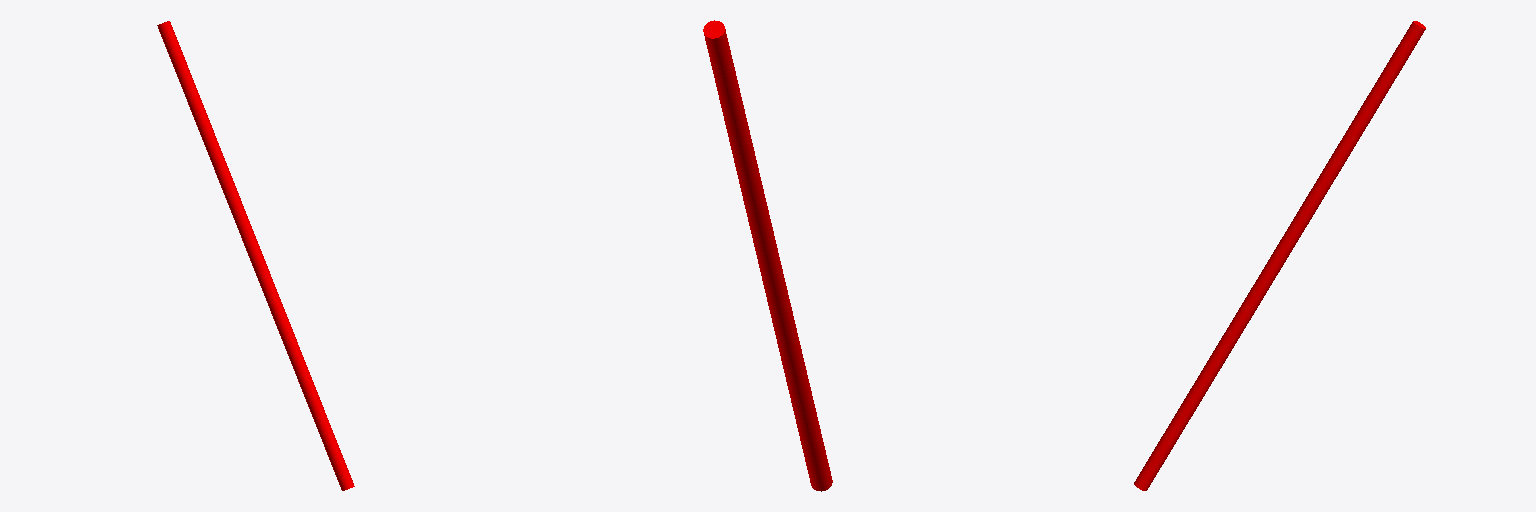
URDF robot description (tree_35.urdf):
<?xml version='1.0' encoding='utf-8'?>
<robot name="tree_35.urdf">
  <link name="branch_0">
    <inertial>
      <origin xyz="0.0 0.0 0.0" rpy="0.0 -0.0 0.0" />
      <mass value="1.0" />
      <inertia ixx="1.0" ixy="0.0" ixz="0.0" iyy="1.0" iyz="0.0" izz="1.0" />
    </inertial>
    <visual name="branch_0_visual">
      <geometry>
        <cylinder radius="0.04028911903046872" length="2.948229657036431" />
      </geometry>
      <material name="semantic_material" />
      <origin xyz="-0.20051342425328664 0.7404182159787617 1.2588048934597995" rpy="2.7755575615628914e-17 0.5472868538149634 1.835263935789652" />
    </visual>
    <collision name="branch_0_collision">
      <geometry>
        <cylinder radius="0.04028911903046872" length="2.948229657036431" />
      </geometry>
      <origin xyz="-0.20051342425328664 0.7404182159787617 1.2588048934597995" rpy="2.7755575615628914e-17 0.5472868538149634 1.835263935789652" />
    </collision>
  </link>
  <material name="semantic_material">
    <color rgba="1. 0. 0. 1." />
  </material>
</robot>

--- What the picture shows (computed from the rendered views, not written in the file) ---
3 views of the same robot in one strip: view 1: azimuth 30°, elevation 25°; view 2: azimuth 150°, elevation 25°; view 3: azimuth 270°, elevation 25° (orthographic).
Robot: tree_35.urdf — 1 links, 0 joints (none); root link branch_0; default pose: every joint at zero.
Visible links, largest first — view 1: branch_0; view 2: branch_0; view 3: branch_0.
Link boxes in pixels (x1=…): branch_0: x1=157, y1=21, x2=354, y2=490; branch_0: x1=703, y1=20, x2=832, y2=491; branch_0: x1=1134, y1=21, x2=1425, y2=490.
Size in the robot's own frame: 0.4808 by 1.55 by 2.56 metres.
Geometry: primitives only (box / cylinder / sphere), no mesh files.